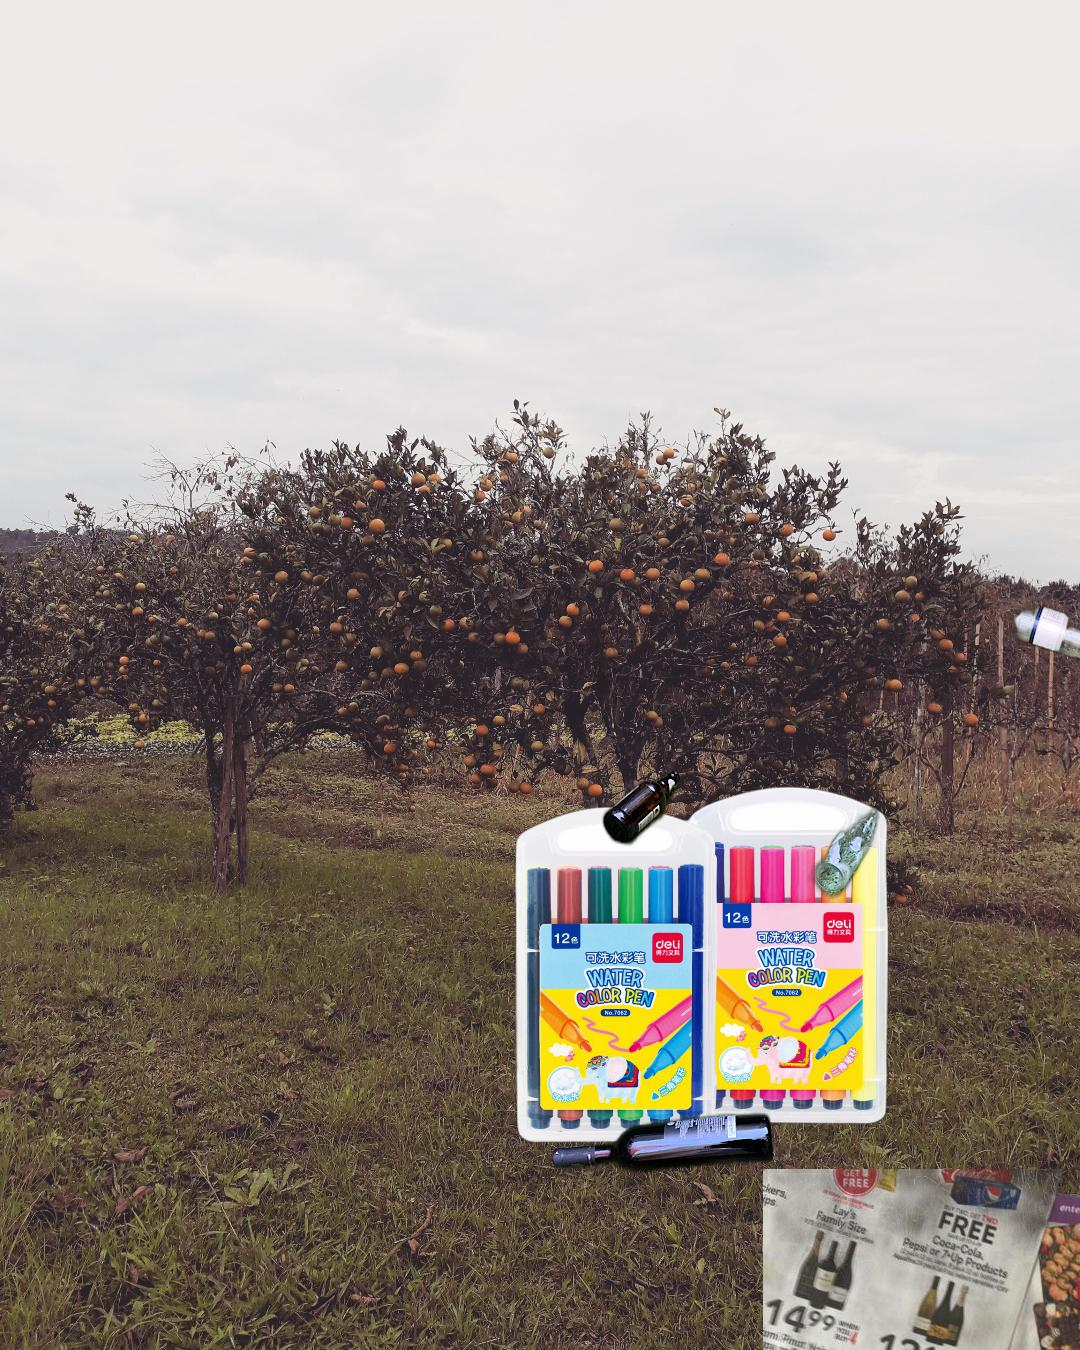glass: (477, 764, 882, 1350)
paper: (763, 1169, 1080, 1350)
penholder: (503, 784, 892, 1145)
plastic-bottles: (870, 600, 1080, 1016)
